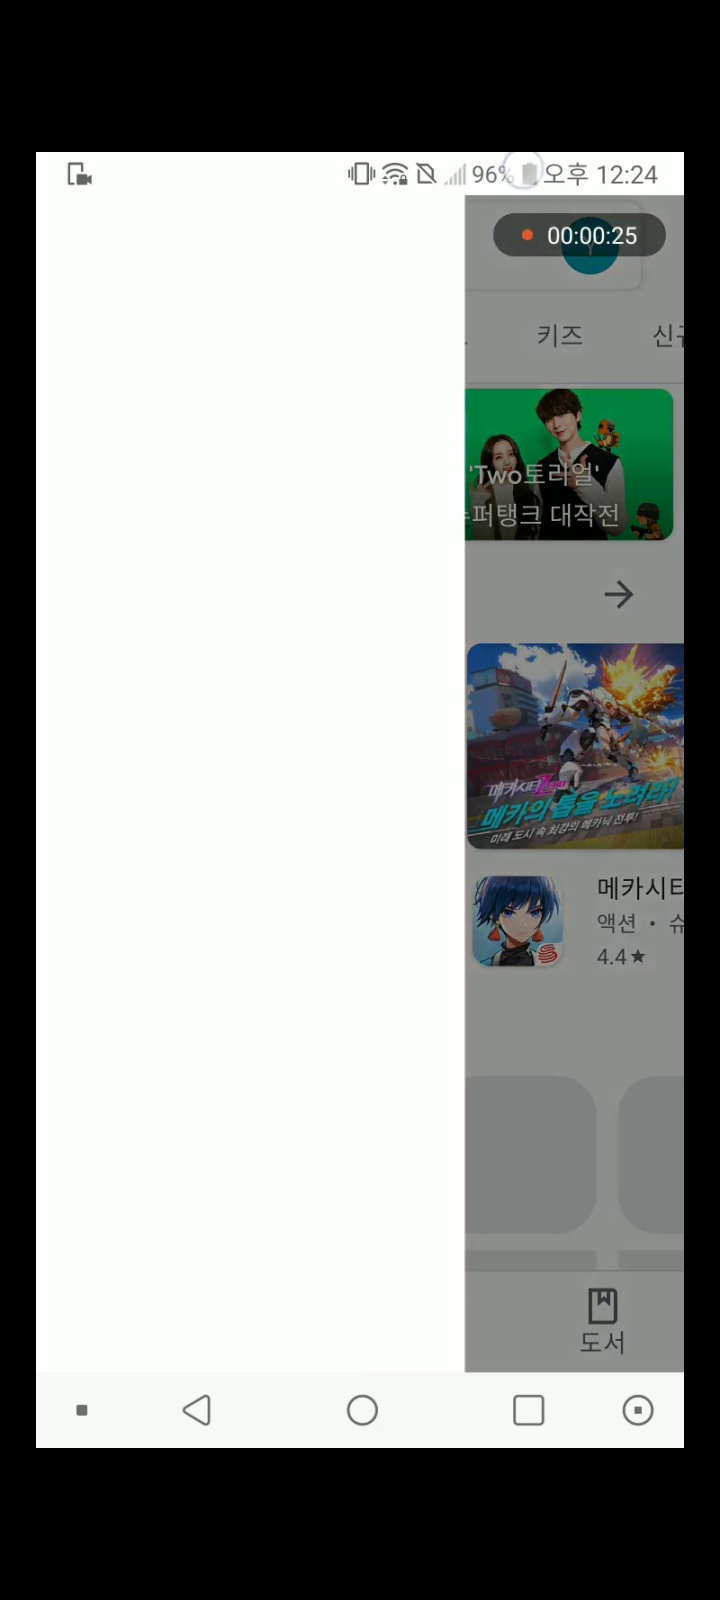Cursor: (504, 153, 548, 193)
